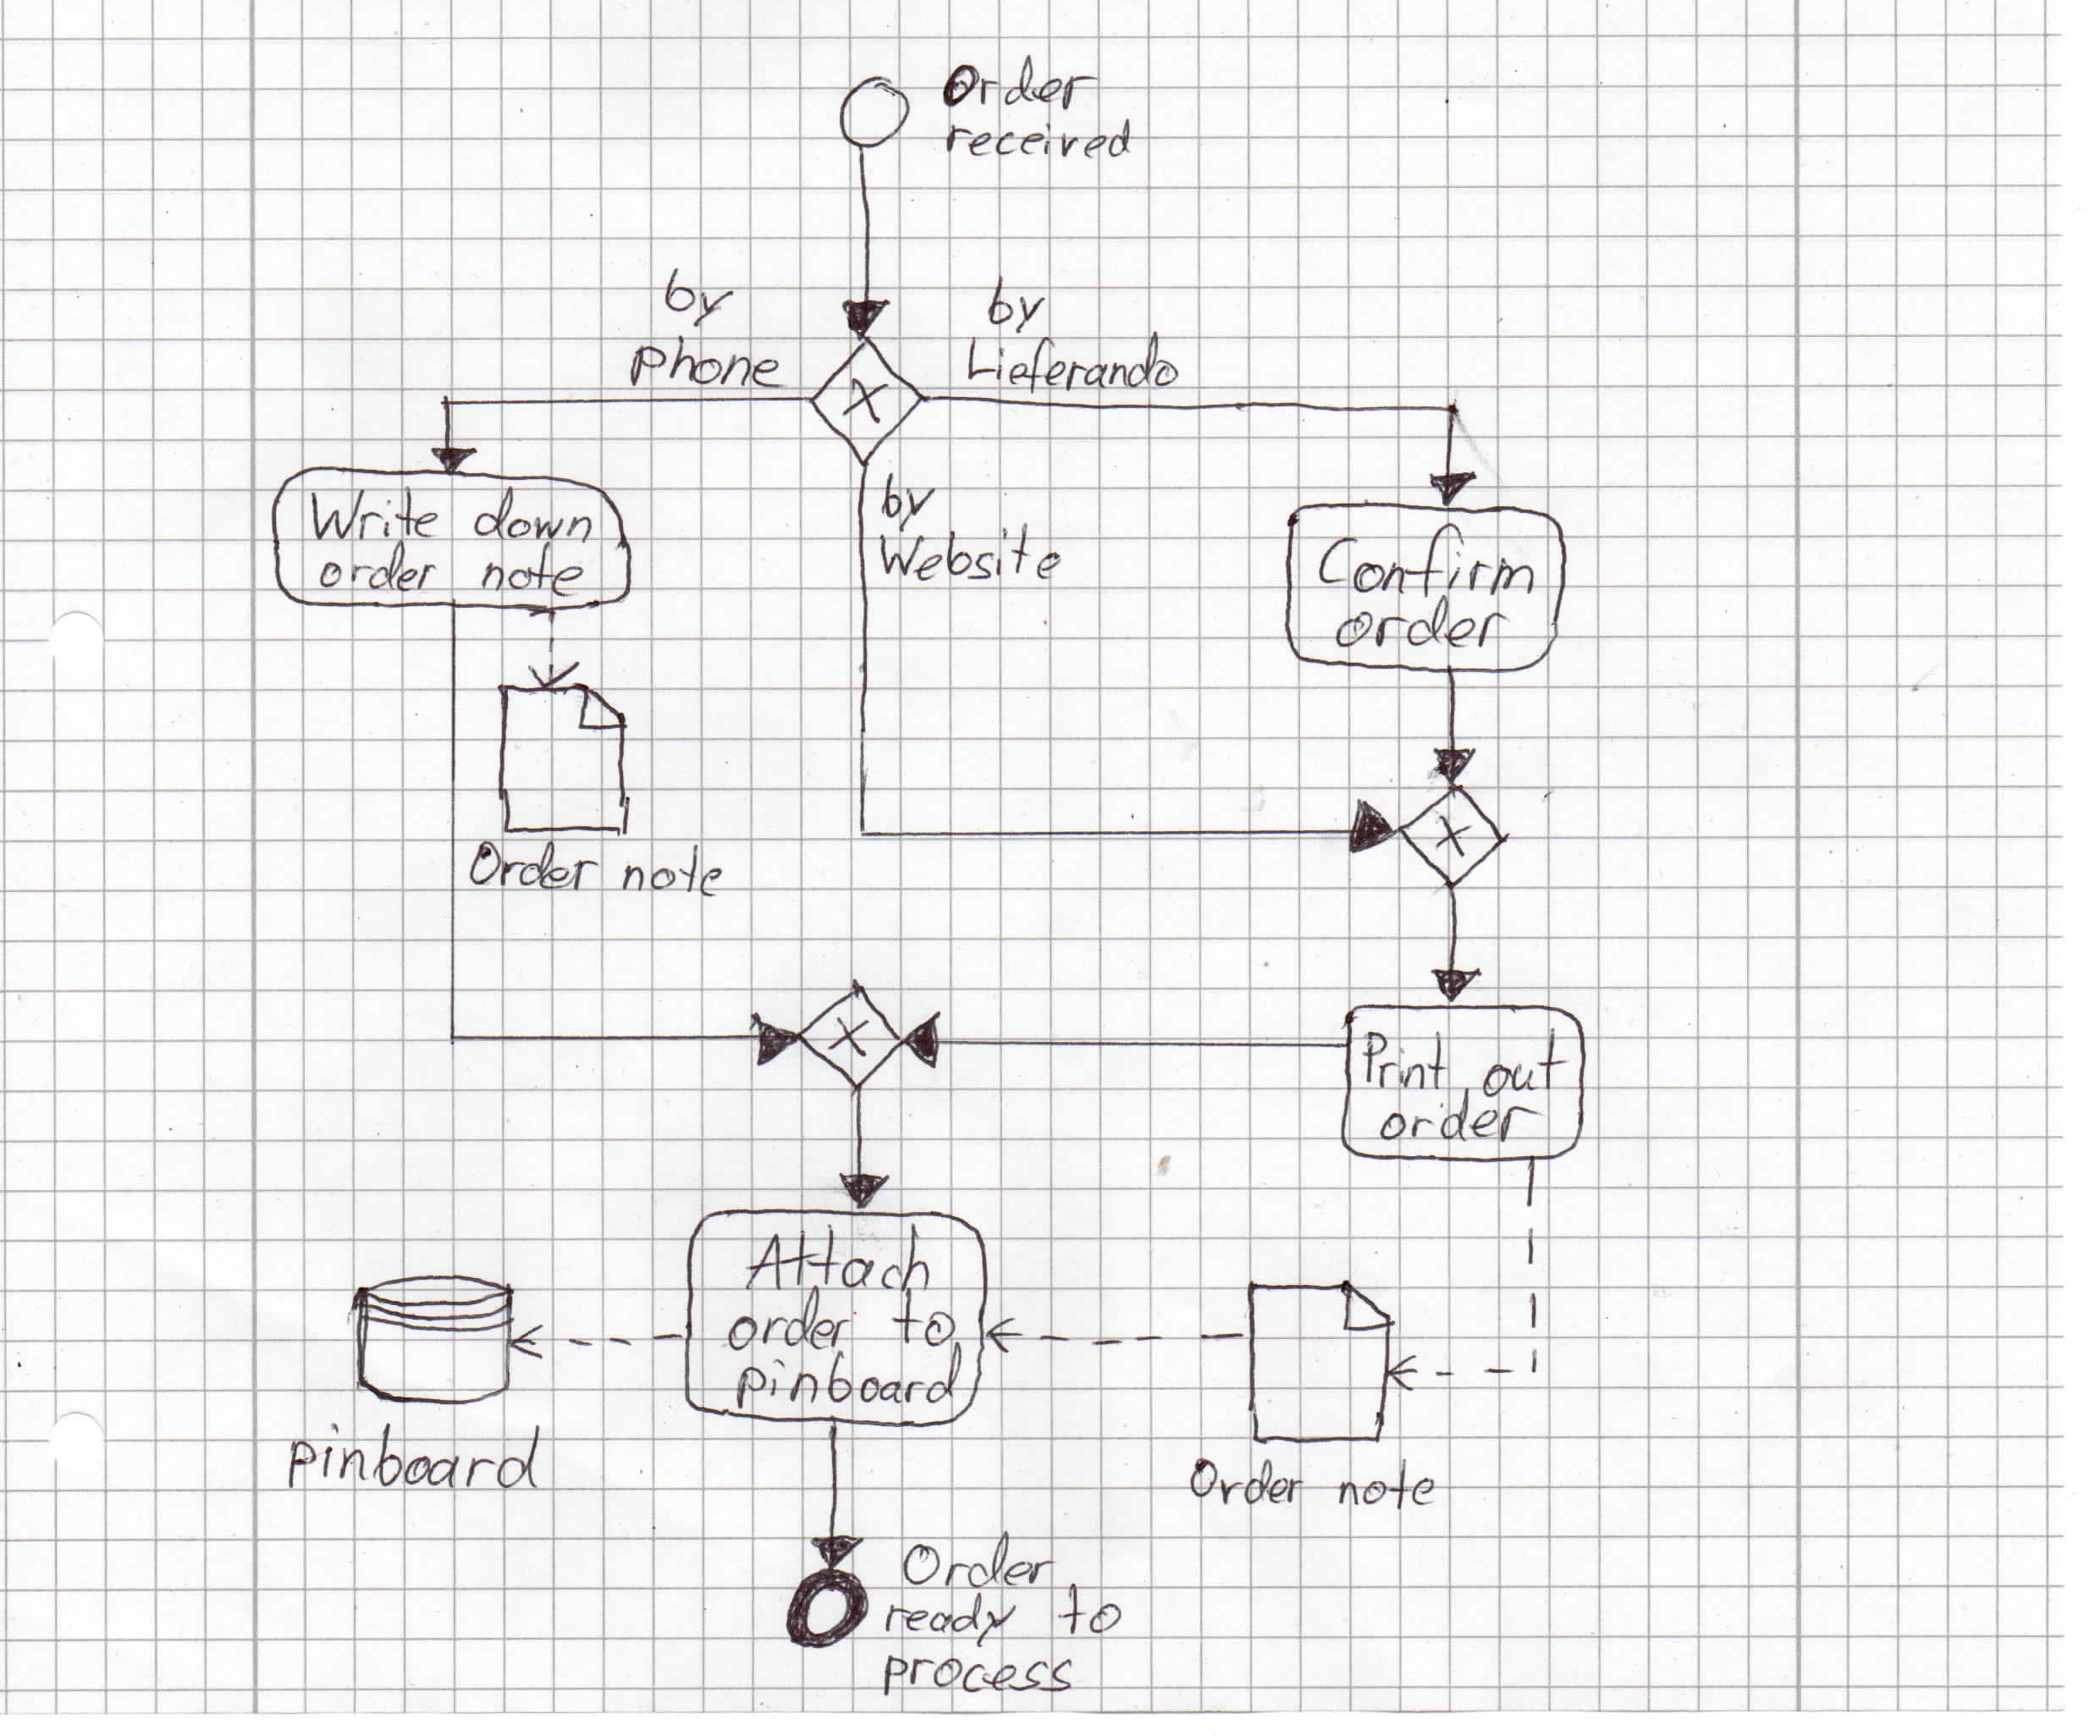Attach: (743, 1220, 933, 1293)
Confirm: (1315, 520, 1537, 597)
Lieferando: (961, 330, 1181, 393)
Order: (900, 1530, 1057, 1591), (940, 54, 1099, 113), (467, 837, 603, 892), (1184, 1450, 1306, 1509)
Print: (1357, 1026, 1455, 1094)
Website: (877, 525, 1066, 584)
Write: (307, 485, 440, 543)
by: (659, 269, 734, 330), (874, 473, 942, 530), (985, 274, 1048, 333)
down: (473, 487, 595, 543)
note: (480, 544, 588, 598), (619, 844, 726, 899), (1336, 1460, 1442, 1513)
order: (1334, 597, 1509, 651), (1378, 1085, 1542, 1141), (726, 1288, 855, 1352), (316, 543, 441, 593)
out: (1477, 1028, 1573, 1099)
phone: (630, 338, 787, 394)
pinboard: (286, 1418, 548, 1497), (733, 1345, 965, 1411)
process: (881, 1654, 1074, 1699)
ready: (881, 1593, 1022, 1645)
received: (940, 117, 1135, 164)
to: (891, 1288, 959, 1347), (1053, 1582, 1123, 1635)
